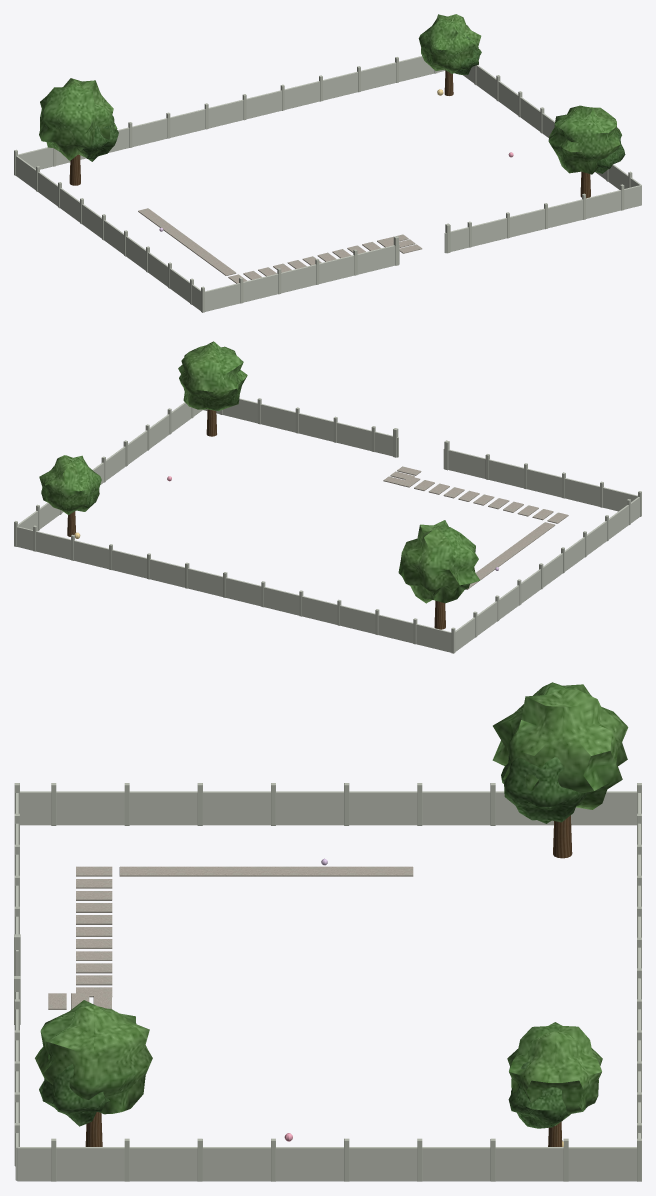
File: yard.glb
3 views of the same model, one above another, from view 1: azimuth 30°, elevation 25°; view 2: azimuth 150°, elevation 25°; view 3: azimuth 270°, elevation 25° (orthographic). The views are drawn at different scales.
Visible parts, largest first — view 1: fence0, tree1_c1, fence0.001, fence1, fence0.002, tree2_c1, tree3_c1, fence0.003, tree1_c2, tree2_c2; view 2: fence0, tree1_c1, fence0.002, fence0.001, tree2_c1, fence1, tree3_c1, fence0.003; view 3: fence0.003, fence0.002, tree1_c1, tree2_c1, tree3_c1, tree1_c2, tree2_c2, tree3_c2, fence0, tree1_trunk.
Part boxes in pixels (x1,y1,x2,y2): fence0: (18,56,445,169); tree1_c1: (39,78,117,160); fence0.001: (205,244,399,311); fence1: (444,185,641,253); fence0.002: (16,155,200,310); tree2_c1: (548,105,621,174); tree3_c1: (418,14,481,73); fence0.003: (463,65,641,204); tree1_c2: (82,115,118,161); tree2_c2: (595,132,625,173); fence0: (17,526,451,652); tree1_c1: (398,520,480,603); fence0.002: (455,497,639,651); fence0.001: (443,449,637,511); tree2_c1: (178,341,247,411); fence1: (203,398,398,457); tree3_c1: (39,455,101,514); fence0.003: (18,402,202,530); fence0.003: (17,1147,636,1181); fence0.002: (20,791,636,825); tree1_c1: (492,682,628,809); tree2_c1: (35,1000,152,1114); tree3_c1: (507,1022,602,1125); tree1_c2: (501,754,586,823); tree2_c2: (39,1053,109,1126); tree3_c2: (508,1062,568,1128); fence0: (638,793,640,1138); tree1_trunk: (553,815,572,858).
Size of what is drawn, in the model's own units: 23.15 by 5.05 by 17.16.
9 materials, 4 textured.
